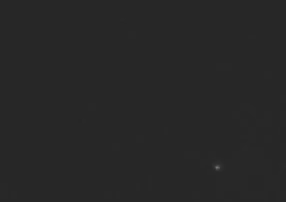Target: (215, 165, 219, 169)
